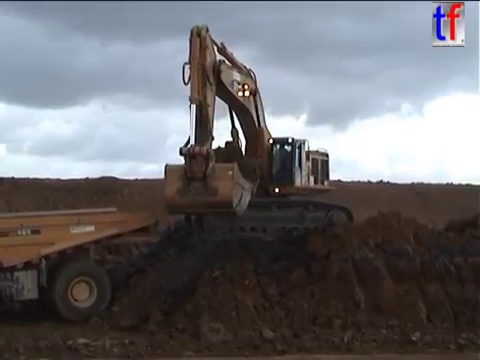excavator: (160, 22, 358, 247)
truck: (1, 204, 158, 323)
